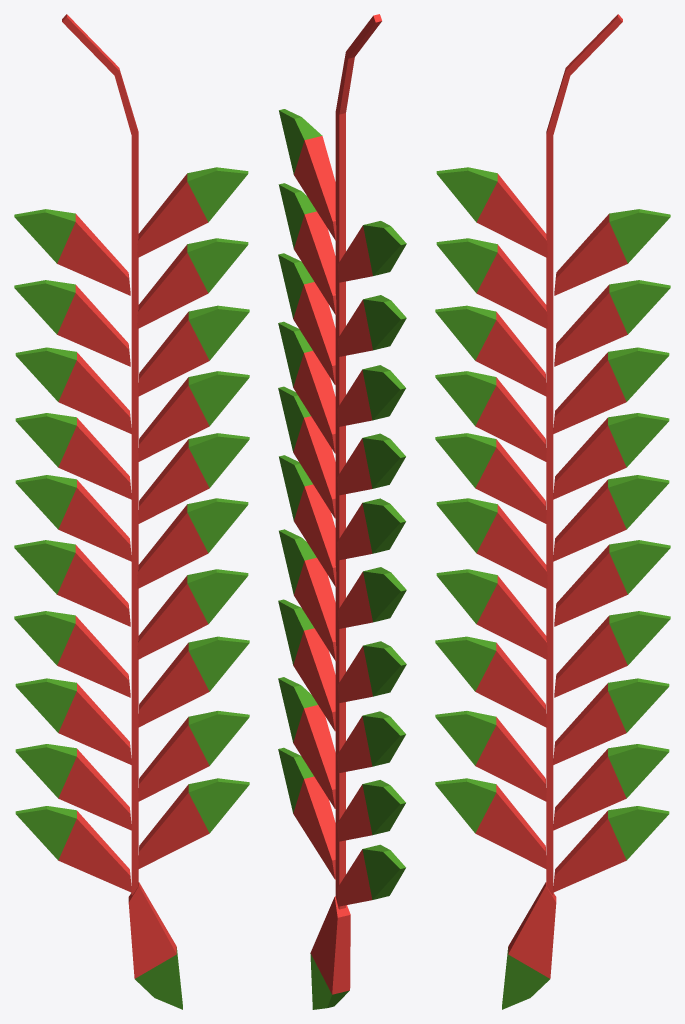
Rendered from hangingFlowers.fbx.
3 renders of one model, left to right at view 1: azimuth 90°, elevation 25°; view 2: azimuth 210°, elevation 25°; view 3: azimuth 270°, elevation 25°, orthographic. The views are drawn at different scales.
Visible parts, largest first — view 1: flowers; view 2: flowers; view 3: flowers.
Part boxes in pixels (bbox=[...]): flowers: bbox=[14, 14, 249, 1009]; flowers: bbox=[278, 14, 406, 1009]; flowers: bbox=[435, 14, 670, 1009].
Bounding box in the file's own units: 4.36 × 241 × 51.64.
